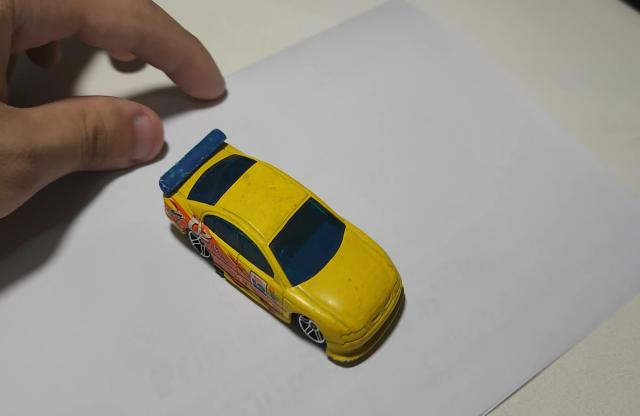02_OZSOME: (159, 128, 404, 362)
